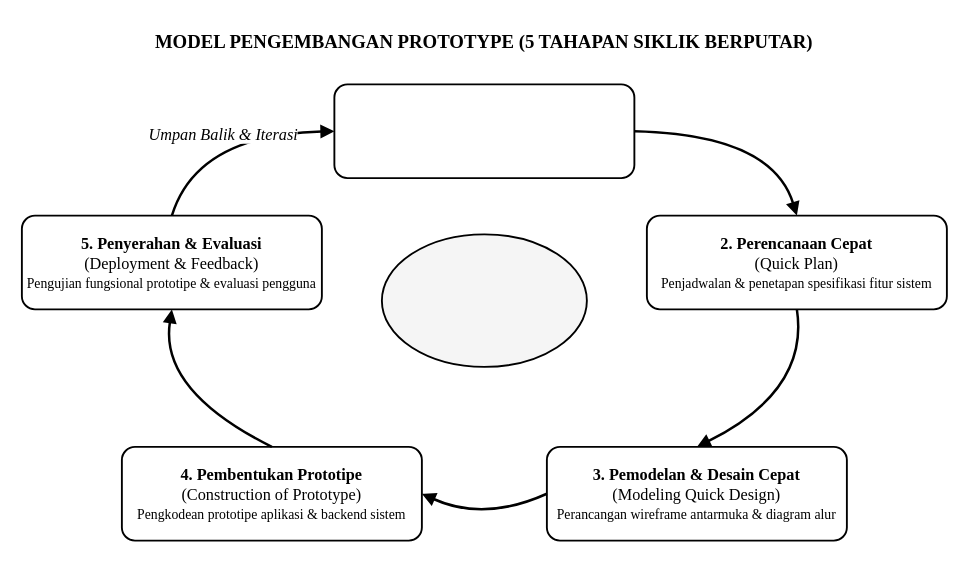
This 970x563 diagram has some shape labels left out. Each missing label, with the box of its shape:
1. Komunikasi (Communication) Identifikasi kebutuhan & analisis awal pengguna: (333, 83, 635, 178)
PROSES SIKLIK ITERATIF (Berulang hingga kebutuhan sistem terpenuhi): (380, 233, 587, 367)
